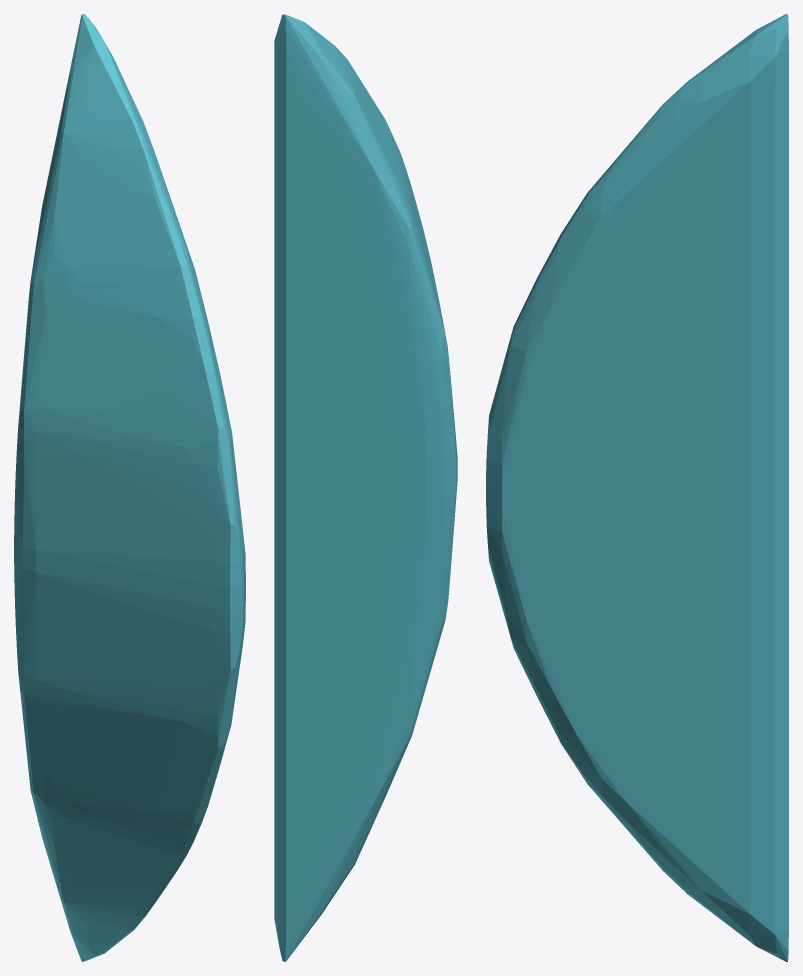
File: right_palm_part_2.obj
3 views of the same model, side by side, from view 1: azimuth 30°, elevation 25°; view 2: azimuth 150°, elevation 25°; view 3: azimuth 270°, elevation 25° (orthographic).
Size of the model in its own units: 1.94 by 12.83 by 3.72.
